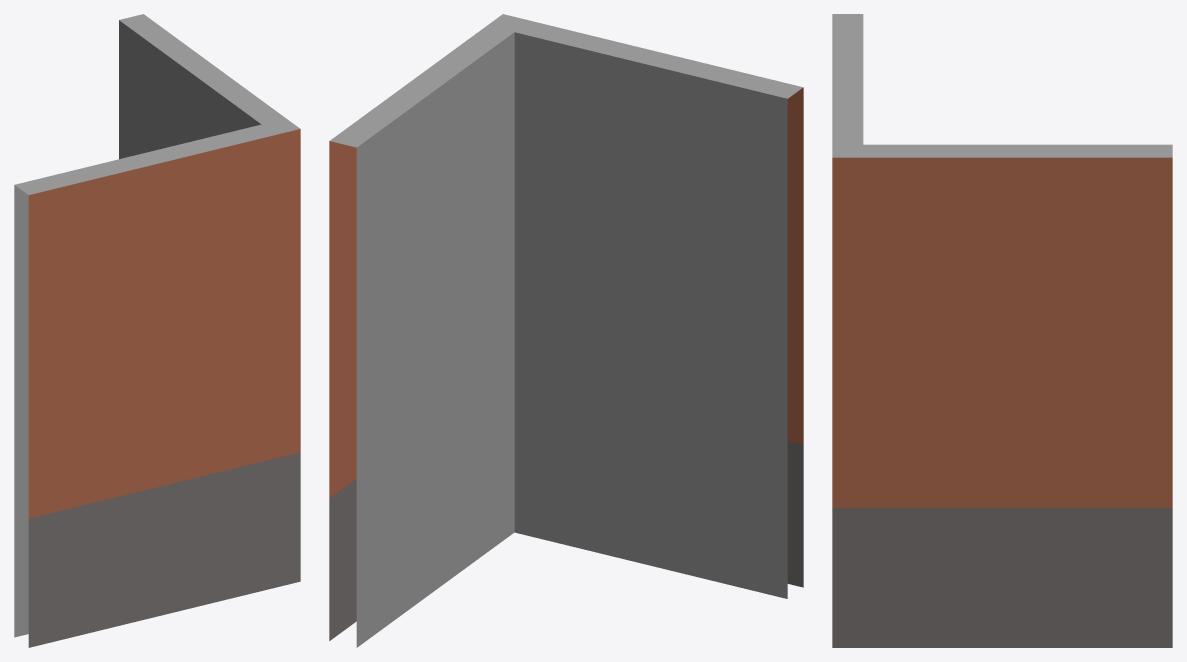
File: SM_Outer_Wall_Corner_200.FBX
The picture shows the model from 3 angles, left to right: view 1: azimuth 30°, elevation 25°; view 2: azimuth 150°, elevation 25°; view 3: azimuth 270°, elevation 25°; orthographic projection. The views are drawn at different scales.
Visible parts, largest first — view 1: SM_Outer_Wall_Corner_200; view 2: SM_Outer_Wall_Corner_200; view 3: SM_Outer_Wall_Corner_200.
Boxes of the visible parts, <box> form: SM_Outer_Wall_Corner_200: <box>14,14,300,647</box>; SM_Outer_Wall_Corner_200: <box>329,14,803,647</box>; SM_Outer_Wall_Corner_200: <box>832,14,1172,647</box>.
Bounding box in the file's own units: 220 × 220 × 350.
